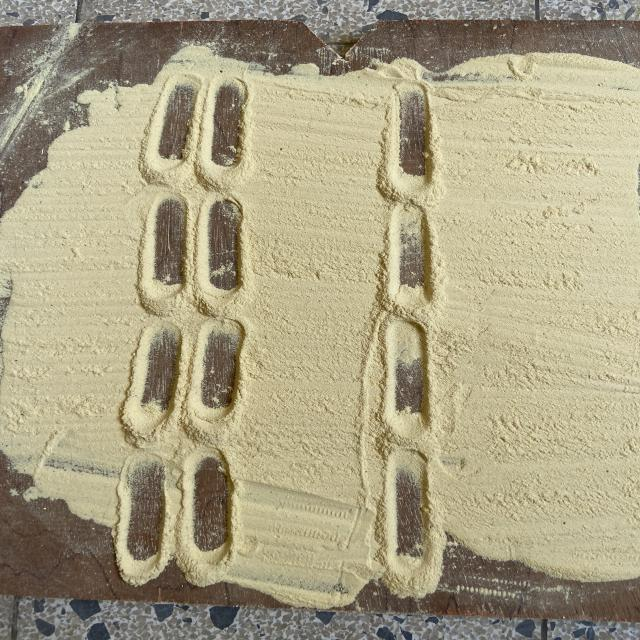double: (112, 451, 250, 587), (113, 316, 254, 448), (133, 194, 254, 316), (142, 72, 260, 189)
single: (375, 445, 447, 595), (373, 80, 448, 202), (373, 316, 442, 442), (375, 202, 447, 312)
